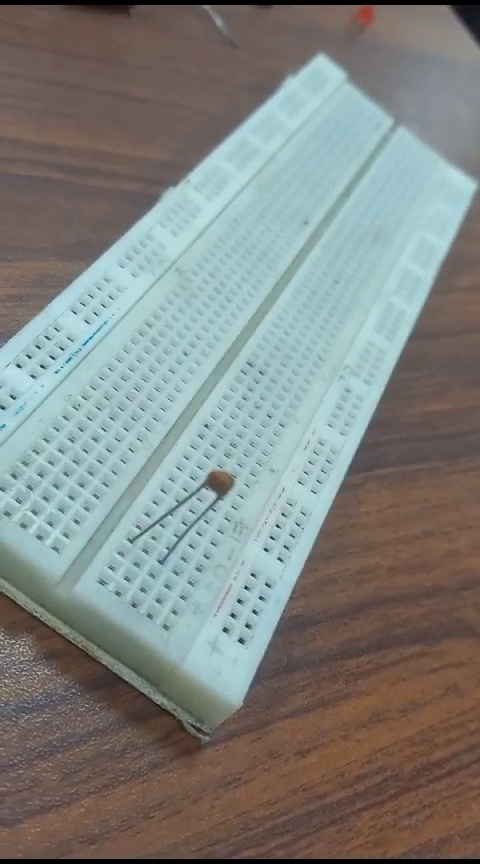ceramic capacitor: (126, 459, 243, 568)
